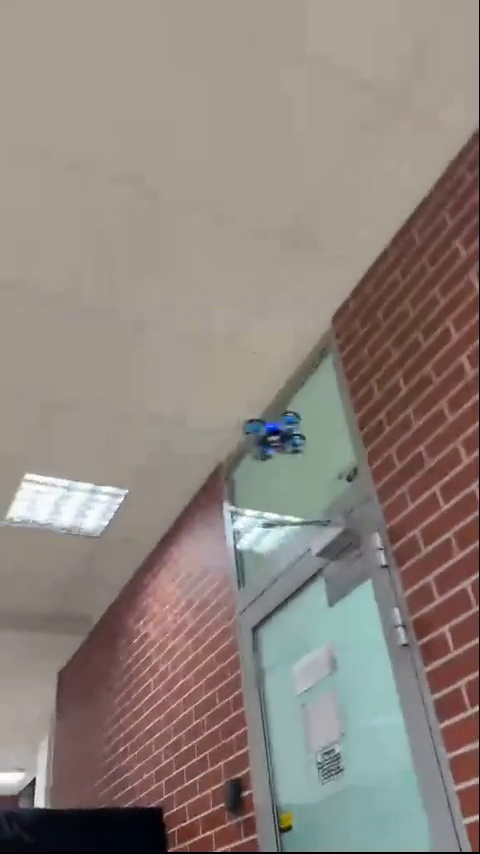drone: (242, 414, 306, 463)
